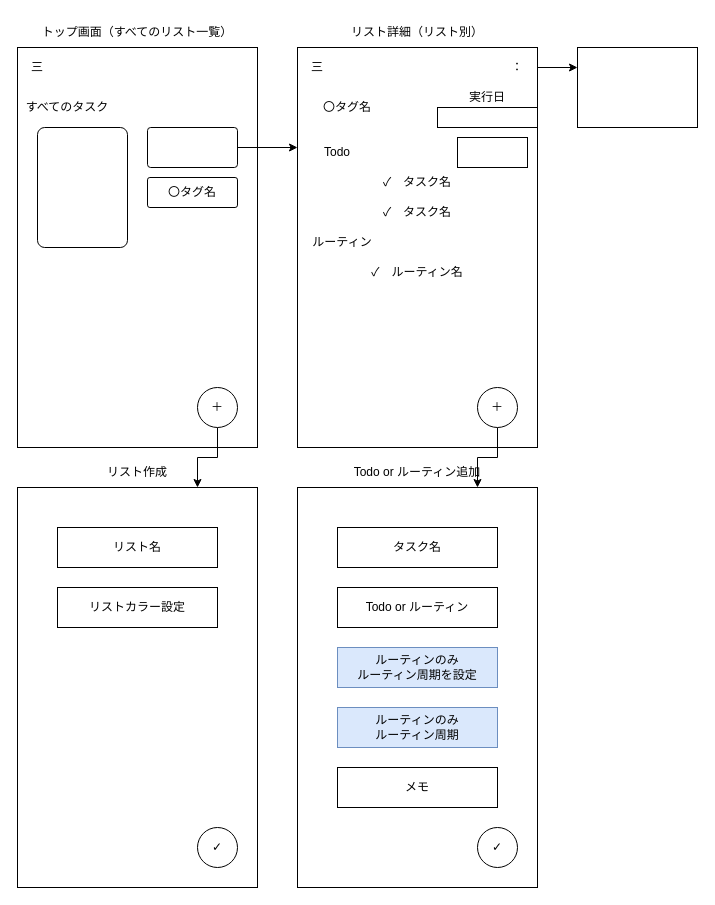
This 715x905 diagram has some shape labels left out. Each missing label, with the centre of its shape:
〇タグ名 ✓タスク名: the point at 192,147
〇タグ名 ✓タスク名 ✓タスク名 ✓タスク名 ✓タスク名 ✓タスク名: the point at 82,187
リスト編集 リスト削除: the point at 637,87
完了済みTodoを削除: the point at 492,152
日付: the point at 487,117
